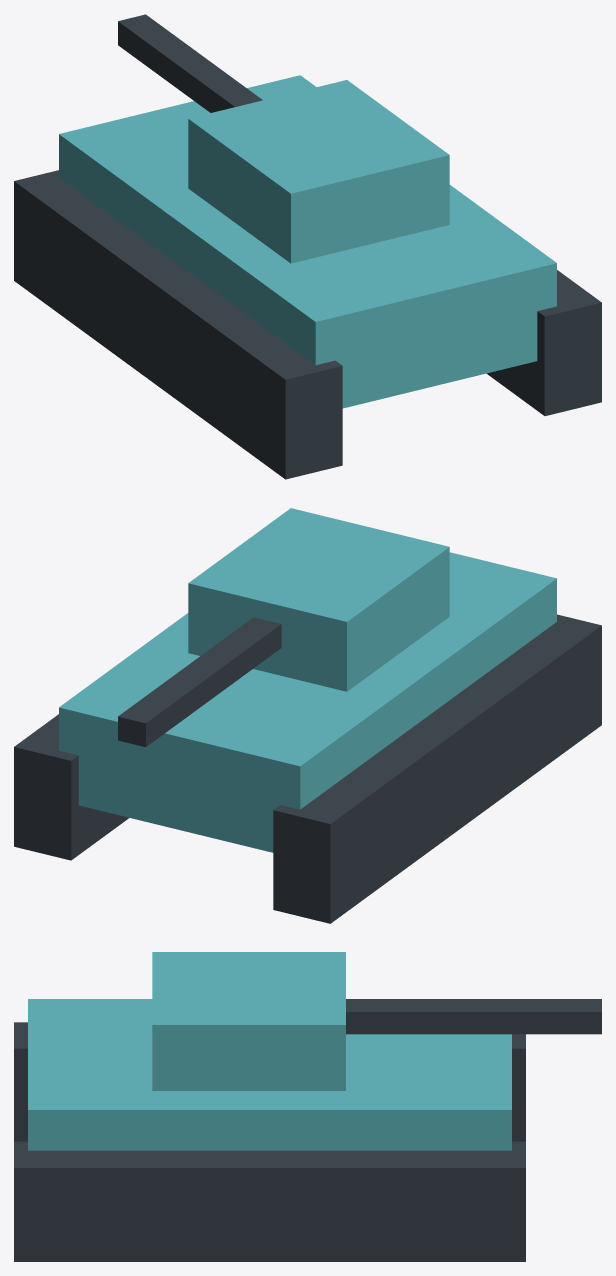
Rendered from Bulwark_LOD1.fbx.
The picture shows the model from 3 angles, top to bottom: view 1: azimuth 30°, elevation 25°; view 2: azimuth 150°, elevation 25°; view 3: azimuth 270°, elevation 25°; orthographic projection. The views are drawn at different scales.
Parts seen in each view (by area): view 1: Hull, Track, Turret, Track.001, Barrel; view 2: Hull, Track, Turret, Track.001, Barrel; view 3: Track.001, Hull, Turret, Barrel, Track.
Boxes of the visible parts, x1,y1,x2,y2 form: Hull: (59,75,556,408); Track: (14,170,342,479); Turret: (188,80,449,263); Track.001: (486,270,601,415); Barrel: (118,14,262,112); Hull: (59,552,556,852); Track: (273,614,601,923); Turret: (188,508,449,691); Track.001: (14,714,128,860); Barrel: (118,617,281,747); Track.001: (14,1141,525,1261); Hull: (28,999,511,1150); Turret: (152,952,345,1090); Barrel: (346,999,601,1034); Track: (14,1022,525,1141).
Bounding box in the file's own units: 249 × 160 × 425.
